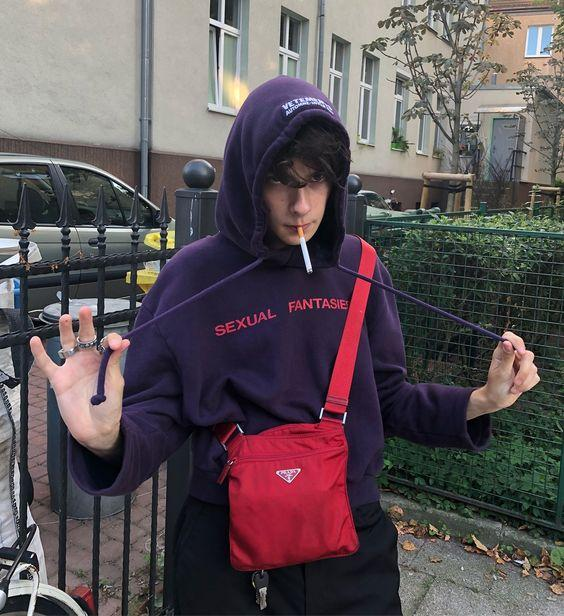cigarette: (297, 226, 313, 274)
